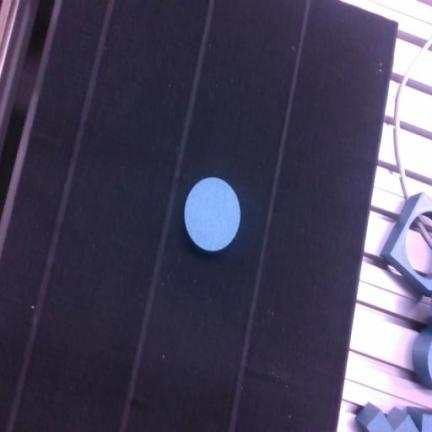cylinder: (184, 177, 240, 251)
